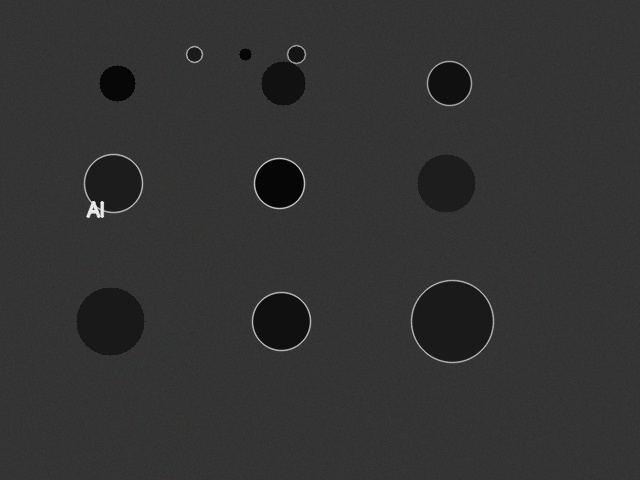hole: (411, 280, 493, 362), (76, 287, 144, 355), (84, 154, 142, 212), (417, 154, 475, 212), (252, 292, 310, 350), (254, 158, 304, 208), (261, 61, 305, 105), (427, 61, 471, 105), (99, 65, 135, 101), (287, 45, 305, 63), (186, 46, 202, 62), (239, 48, 251, 60)
